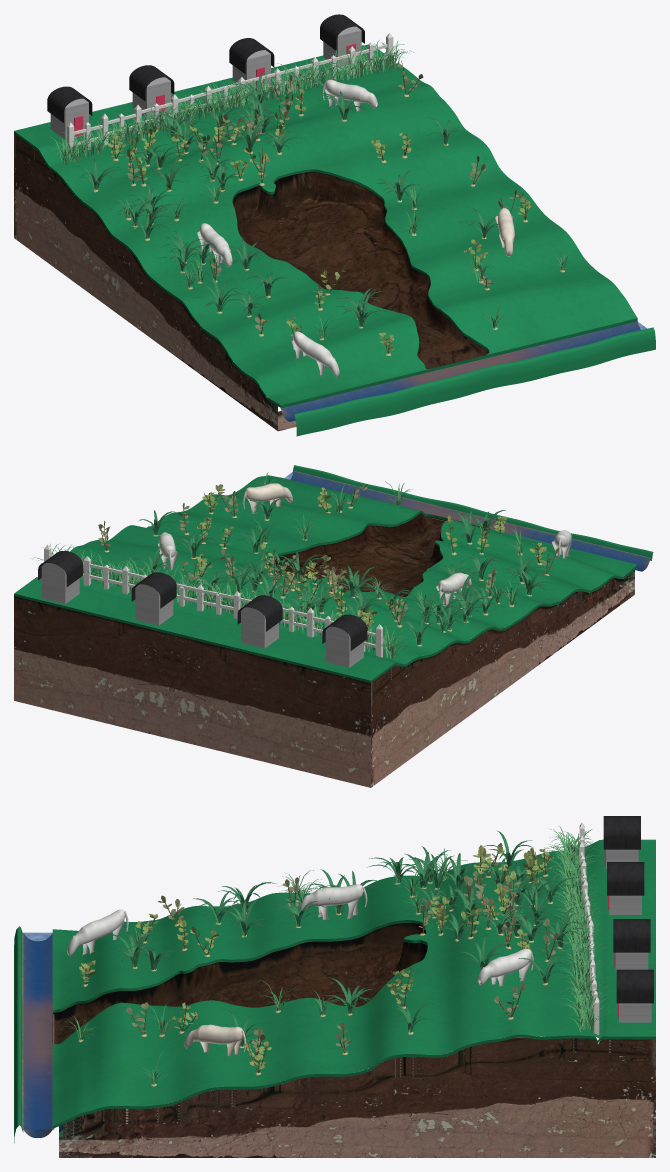
Rendered from maquete_19_vocoroca_web.glb.
3 views of the same model, one above another, from view 1: azimuth 30°, elevation 25°; view 2: azimuth 150°, elevation 25°; view 3: azimuth 270°, elevation 25° (orthographic). The views are drawn at different scales.
Visible parts, largest first — view 1: EVA_Pastagem_M19, Vocoroca_Solo_M19, Lateral_Esquerda_M19, Plantas_M19, EVA_Faixa_Rio_M19, Capim_Cerca_M19, Agua_Rio_M19, Casas_Paredes_M19, Leito_Rio_M19, Cerca_Branca_M19, Casas_Telhados_M19, EVA_Margem_M19 (+6 smaller); view 2: EVA_Pastagem_M19, Face_Fundo_M19, Lateral_Esquerda_M19, Plantas_M19, Vocoroca_Solo_M19, Casas_Paredes_M19, Capim_Cerca_M19, Casas_Telhados_M19, Leito_Rio_M19, Agua_Rio_M19, Cerca_Branca_M19, EVA_Faixa_Rio_M19 (+5 smaller); view 3: EVA_Pastagem_M19, Lateral_Direita_M19, Plantas_M19, Vocoroca_Solo_M19, Leito_Rio_M19, Agua_Rio_M19, Capim_Cerca_M19, Casas_Telhados_M19, Casas_Paredes_M19, EVA_Bordas_M19, EVA_Faixa_Rio_M19, EVA_Corte_Vocoroca_M19 (+5 smaller).
Boxes of the visible parts, x1=… form: EVA_Pastagem_M19: x1=14, y1=44, x2=637, y2=405; Vocoroca_Solo_M19: x1=232, y1=171, x2=488, y2=368; Lateral_Esquerda_M19: x1=14, y1=133, x2=277, y2=430; Plantas_M19: x1=76, y1=60, x2=575, y2=355; EVA_Faixa_Rio_M19: x1=294, y1=327, x2=655, y2=436; Capim_Cerca_M19: x1=47, y1=40, x2=414, y2=164; Agua_Rio_M19: x1=281, y1=321, x2=646, y2=417; Casas_Paredes_M19: x1=50, y1=26, x2=361, y2=139; Leito_Rio_M19: x1=280, y1=322, x2=640, y2=421; Cerca_Branca_M19: x1=67, y1=33, x2=393, y2=156; Casas_Telhados_M19: x1=47, y1=14, x2=364, y2=122; EVA_Margem_M19: x1=280, y1=318, x2=637, y2=408; EVA_Pastagem_M19: x1=14, y1=475, x2=636, y2=680; Face_Fundo_M19: x1=14, y1=596, x2=370, y2=787; Lateral_Esquerda_M19: x1=371, y1=570, x2=634, y2=787; Plantas_M19: x1=98, y1=472, x2=559, y2=646; Vocoroca_Solo_M19: x1=275, y1=513, x2=446, y2=596; Casas_Paredes_M19: x1=41, y1=563, x2=363, y2=667; Capim_Cerca_M19: x1=32, y1=544, x2=414, y2=659; Casas_Telhados_M19: x1=38, y1=551, x2=367, y2=650; Leito_Rio_M19: x1=290, y1=471, x2=650, y2=571; Agua_Rio_M19: x1=285, y1=471, x2=649, y2=567; Cerca_Branca_M19: x1=44, y1=544, x2=382, y2=657; EVA_Faixa_Rio_M19: x1=293, y1=465, x2=653, y2=560; EVA_Pastagem_M19: x1=52, y1=839, x2=655, y2=1125; Lateral_Direita_M19: x1=59, y1=1037, x2=655, y2=1157; Plantas_M19: x1=63, y1=831, x2=585, y2=1086; Vocoroca_Solo_M19: x1=52, y1=923, x2=427, y2=1044; Leito_Rio_M19: x1=21, y1=932, x2=54, y2=1137; Agua_Rio_M19: x1=23, y1=932, x2=52, y2=1129; Capim_Cerca_M19: x1=542, y1=826, x2=615, y2=1033; Casas_Telhados_M19: x1=603, y1=816, x2=653, y2=1003; Casas_Paredes_M19: x1=604, y1=849, x2=651, y2=1022; EVA_Bordas_M19: x1=52, y1=1034, x2=655, y2=1128; EVA_Faixa_Rio_M19: x1=14, y1=926, x2=23, y2=1143; EVA_Corte_Vocoroca_M19: x1=52, y1=920, x2=427, y2=1014.
Size of what is drawn, in the model's own units: 0.6186 by 0.2341 by 0.8266.
Materials: 15 (14 with a texture image).
